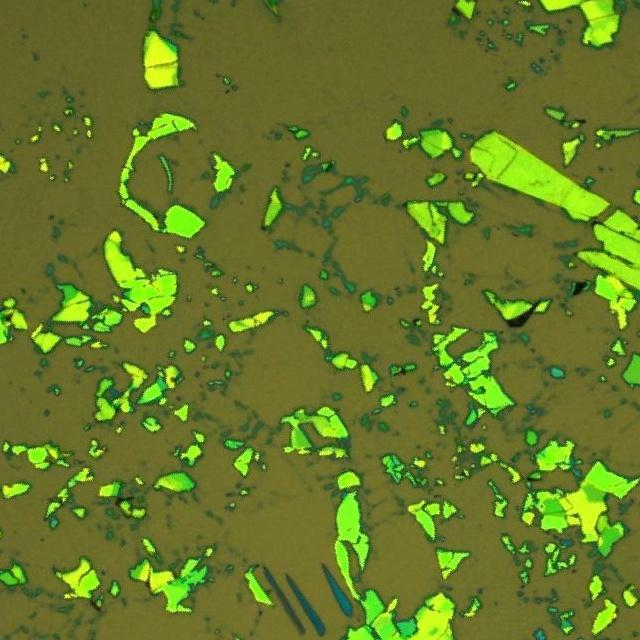monolayer-eWW4: (276, 593, 302, 636)
